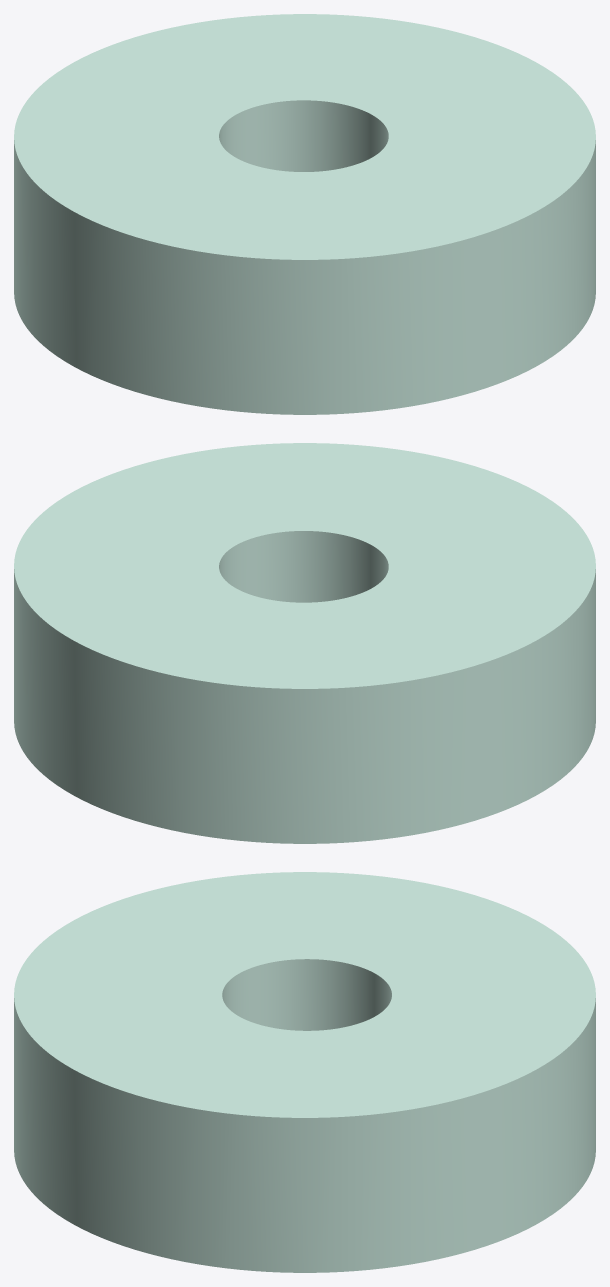
3 renders of one model, top to bottom at view 1: azimuth 30°, elevation 25°; view 2: azimuth 150°, elevation 25°; view 3: azimuth 270°, elevation 25°, orthographic.
Parts seen in each view (by area): view 1: Renderer Node; view 2: Renderer Node; view 3: Renderer Node.
Boxes of the visible parts, <box> form: Renderer Node: <box>14,14,595,414</box>; Renderer Node: <box>14,443,595,843</box>; Renderer Node: <box>14,872,595,1272</box>.
Bounding box in the file's own units: 1.52 × 0.4453 × 1.52.
